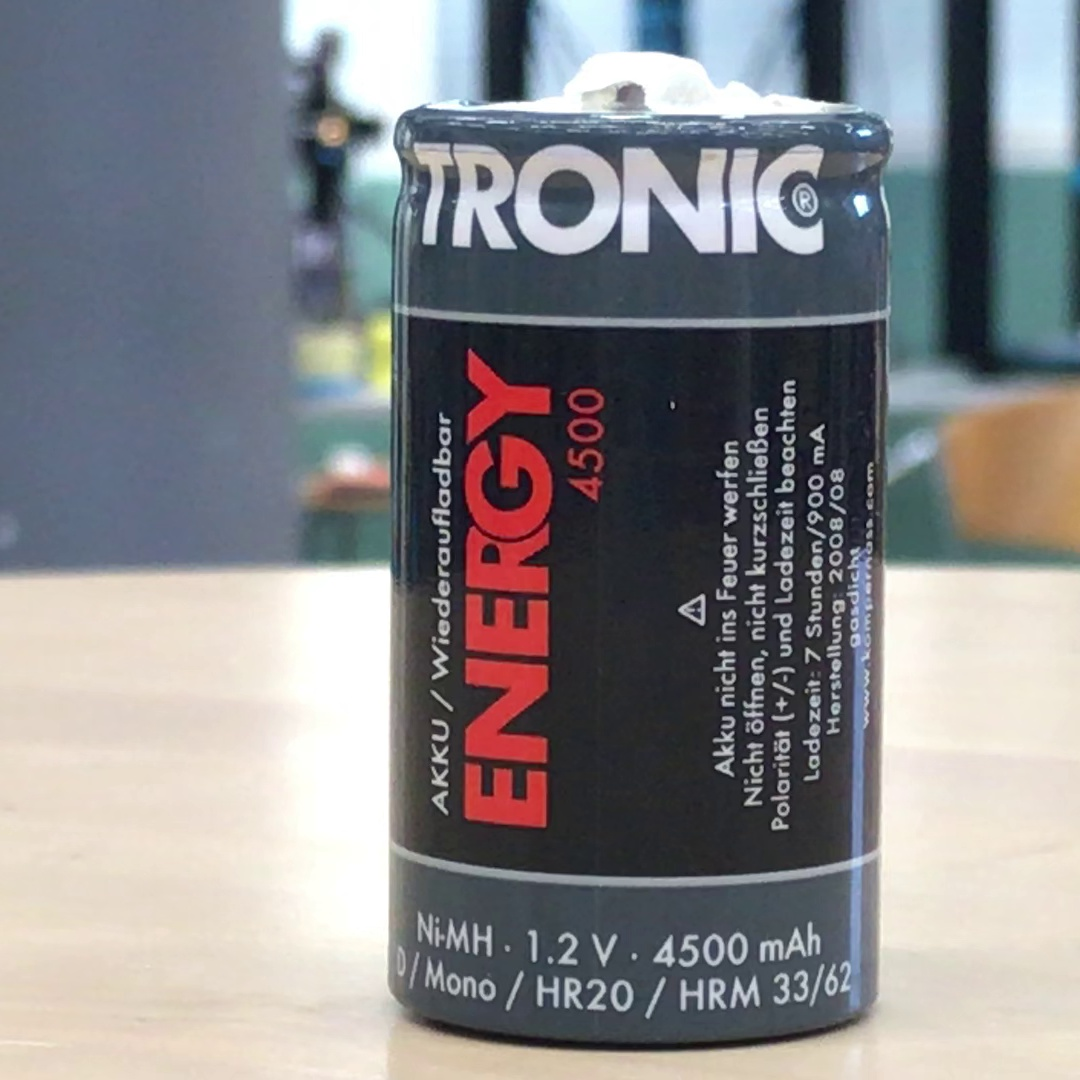keyword: (528, 971, 638, 1017)
